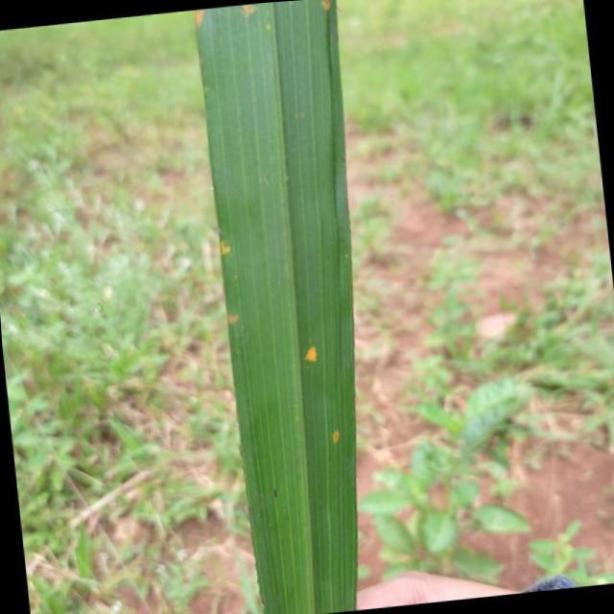Kalium: (193, 9, 359, 614)
